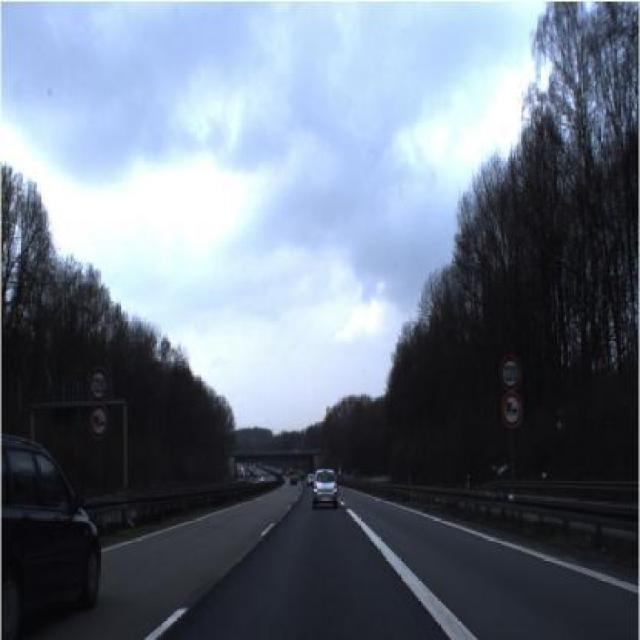no_overtaking: (85, 405, 114, 443), (499, 392, 523, 430)
speed_limit_120: (496, 350, 524, 392), (88, 363, 109, 403)
